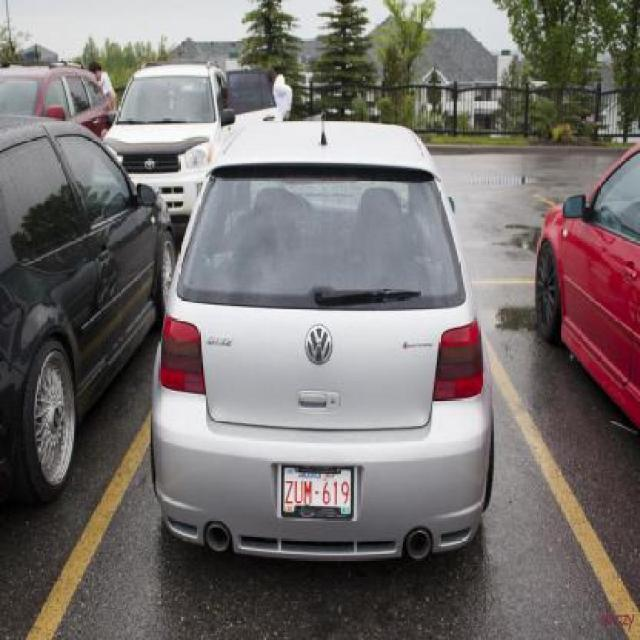License-Plates: (282, 464, 354, 518)
